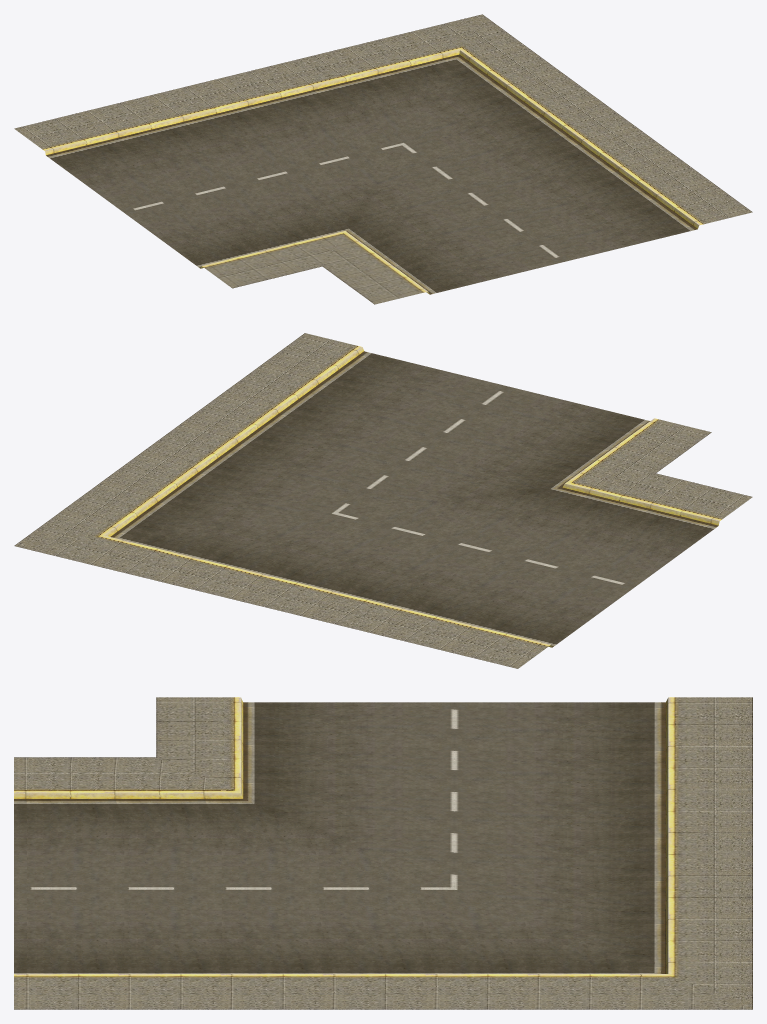
Rendered from Road3_Corner_D.fbx.
3 views of the same model, one above another, from view 1: azimuth 30°, elevation 25°; view 2: azimuth 150°, elevation 25°; view 3: azimuth 270°, elevation 25° (orthographic). The views are drawn at different scales.
Parts seen in each view (by area): view 1: Road_Corner_D; view 2: Road_Corner_D; view 3: Road_Corner_D.
Part boxes in pixels (bbox=[...]): Road_Corner_D: bbox=[14, 14, 752, 304]; Road_Corner_D: bbox=[14, 333, 752, 668]; Road_Corner_D: bbox=[14, 697, 752, 1009].
Bounding box in the file's own units: 2793 × 20.38 × 2793.
